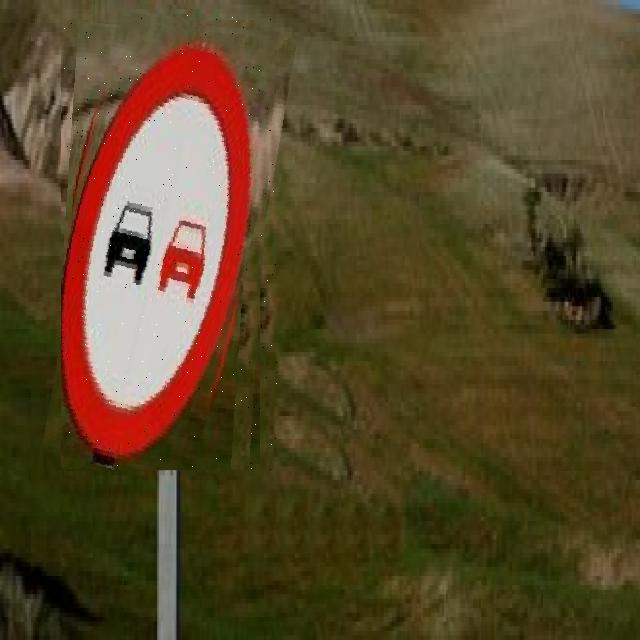no overtaking: (61, 14, 278, 470)
